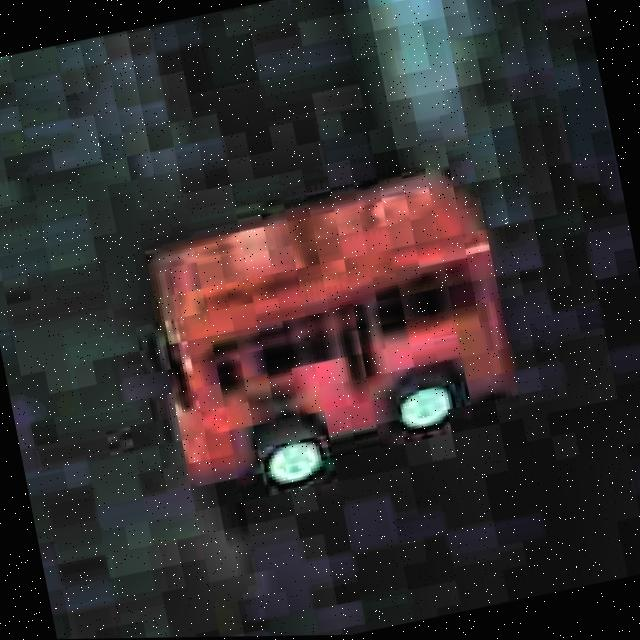bus: (125, 149, 540, 519)
